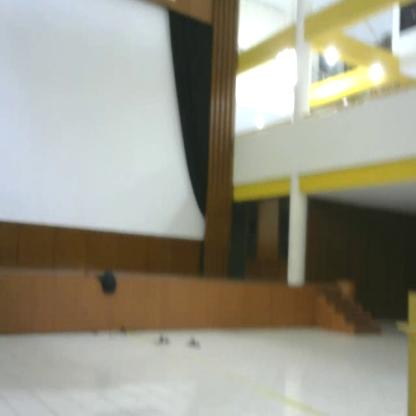pole: (391, 285, 416, 416)
